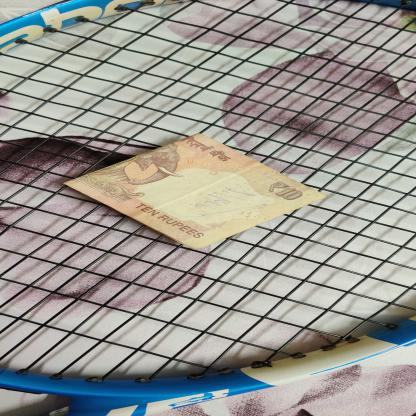Old10Back: (61, 132, 326, 250)
